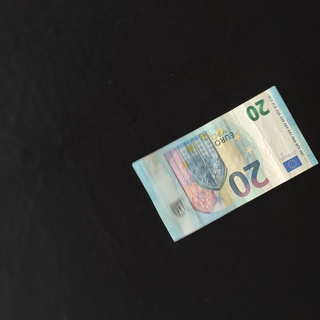20EUROFront: (131, 85, 319, 243)
